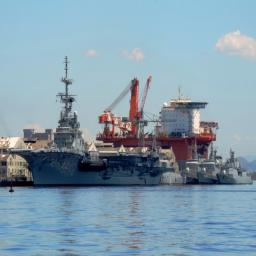Portanaves: (4, 55, 158, 194)
